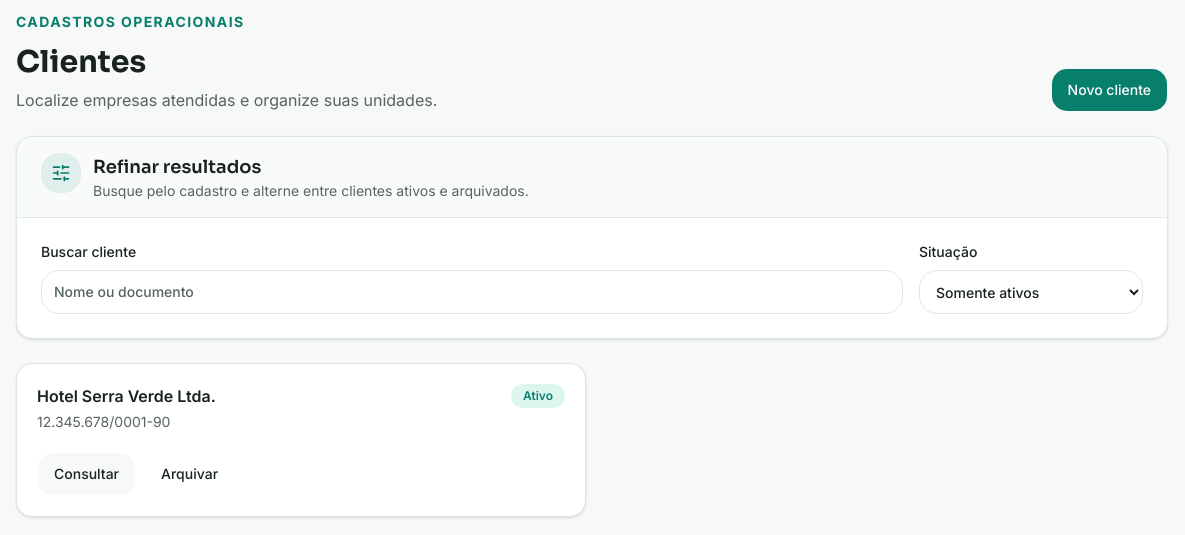
Test: customers web foundation › filters customers immediately without navigation or a clear-filters row
The width and height of the screenshot is (1185, 535).
Expected: the heading "Hotel Serra Verde Ltda." is shown, [37, 384, 216, 408]
Type "Serra" into the field with placeholder "Nome ou documento" at (472, 292), box [41, 270, 903, 314]
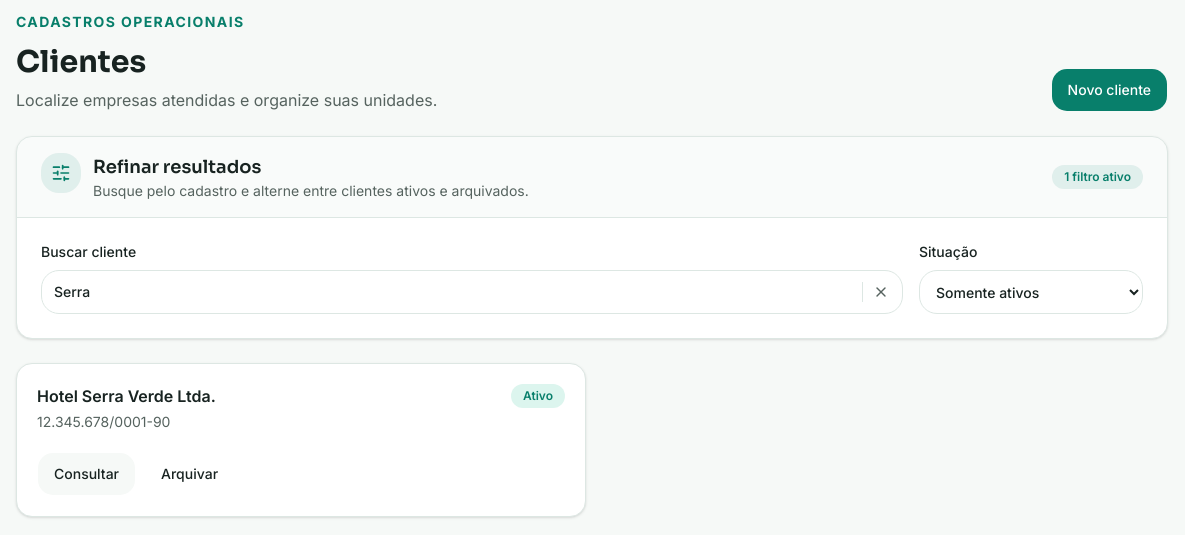
Expected: the button named "Limpar busca" is shown
Click the button named "Limpar busca" at (881, 292), box [863, 274, 899, 310]
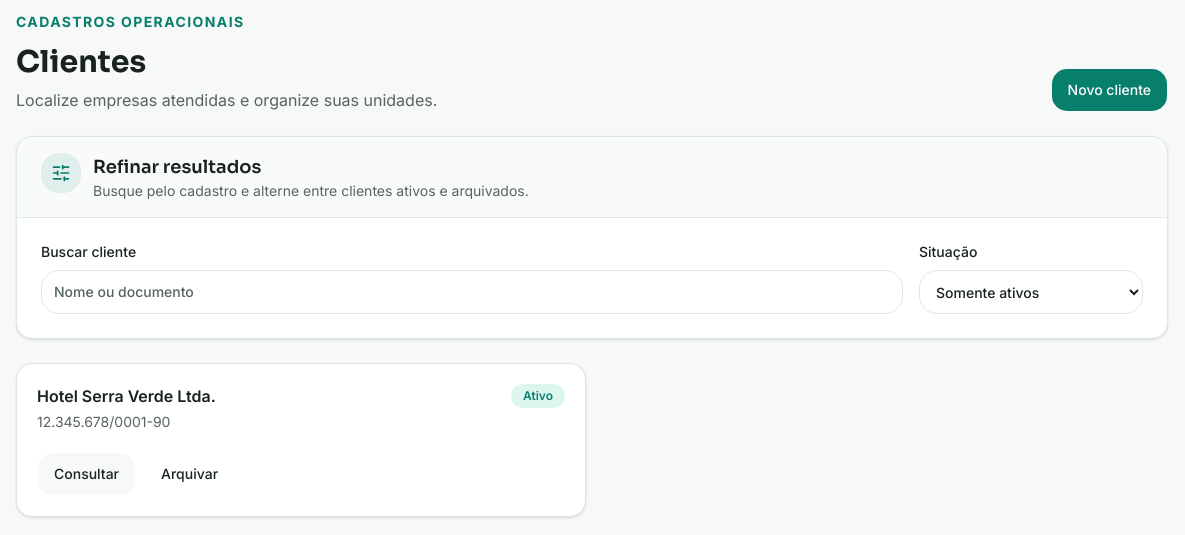
Expected: the field with placeholder "Nome ou documento" is empty, [41, 270, 903, 314]
Select "Somente arquivados" in the dropdown at (1031, 292), box [919, 270, 1143, 314]
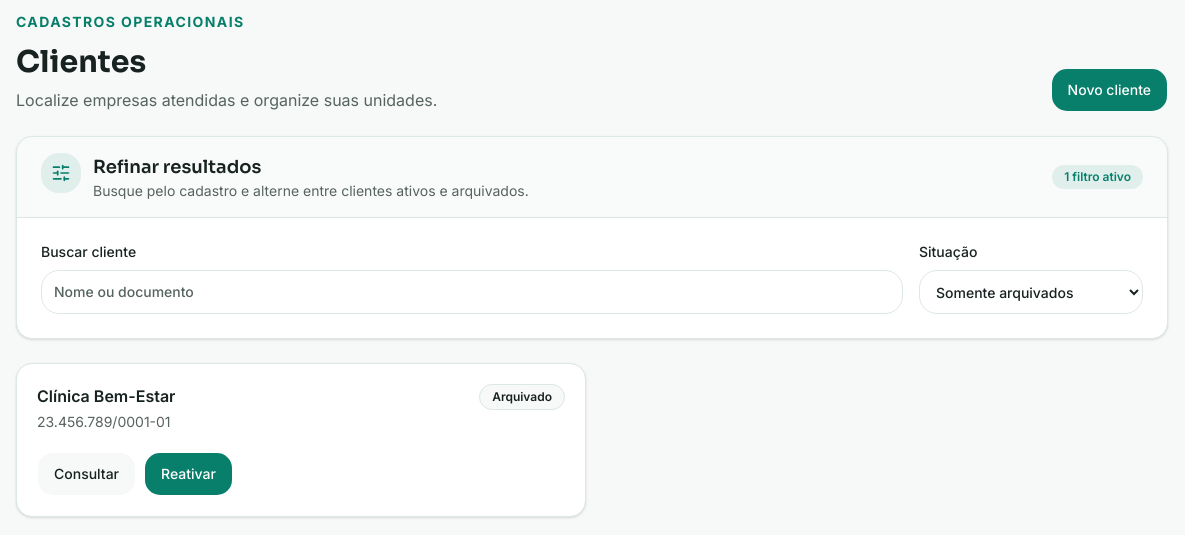
Expected: the heading "Clínica Bem-Estar" is shown, [37, 384, 175, 408]
